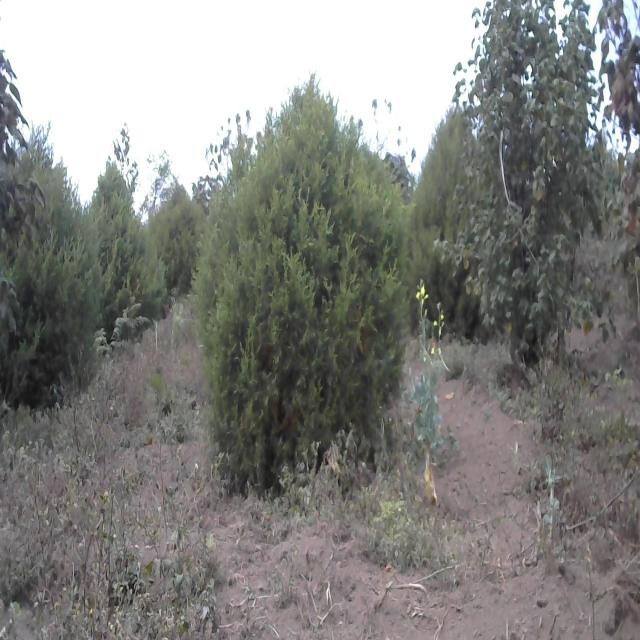cedrus: (196, 74, 403, 524), (26, 134, 100, 404), (405, 103, 479, 340), (89, 160, 145, 364)
other: (457, 4, 615, 382)
